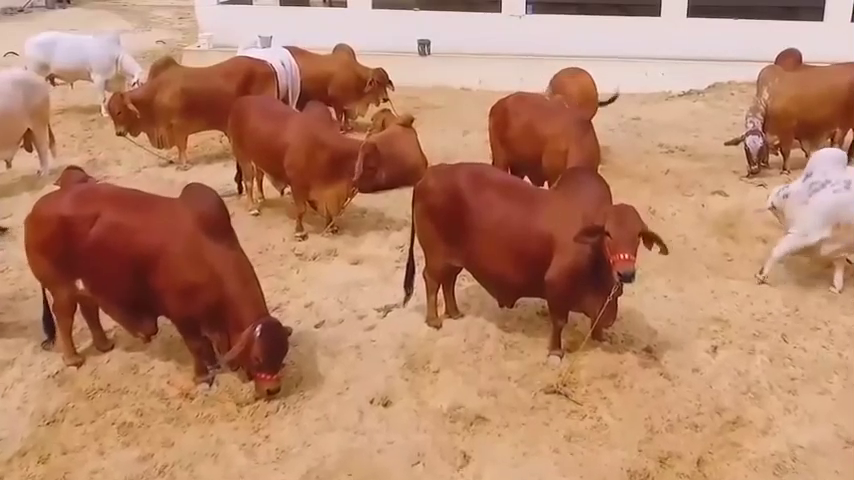bo: (16, 165, 305, 401), (395, 156, 661, 364), (221, 88, 393, 235), (101, 45, 285, 176), (719, 41, 854, 189), (753, 137, 854, 307), (478, 74, 611, 194), (280, 33, 402, 126), (21, 20, 150, 106), (228, 21, 309, 112), (4, 59, 64, 180), (355, 105, 433, 190), (541, 56, 612, 136)
